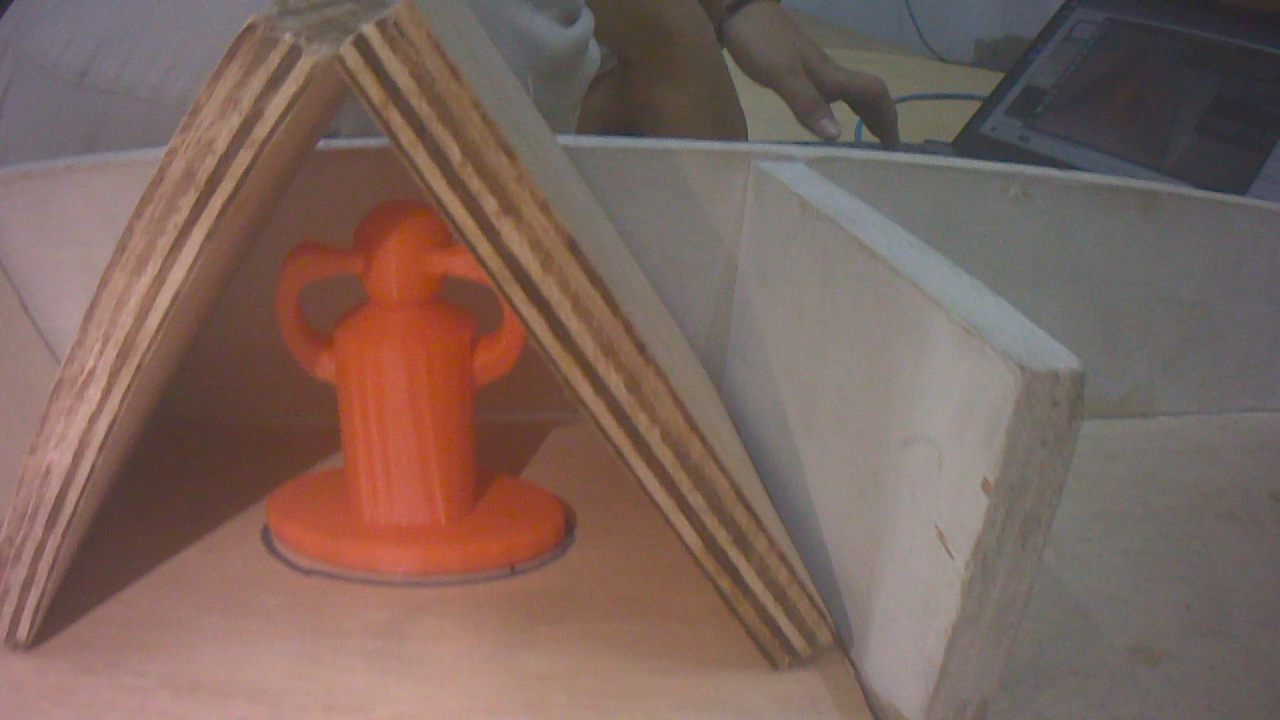real: (256, 191, 569, 588)
